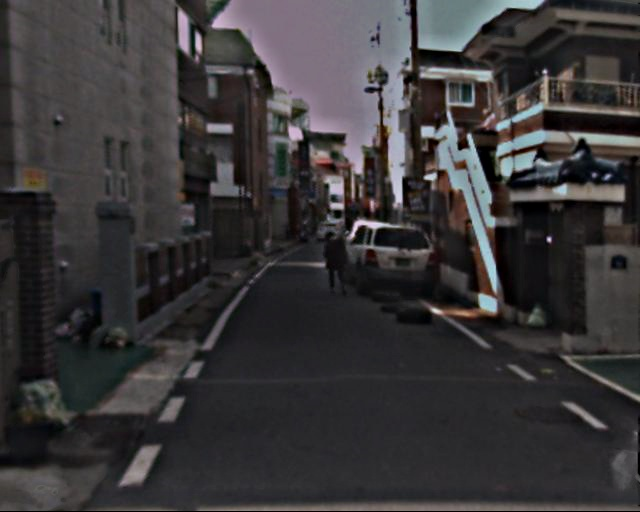person: (321, 228, 351, 301)
